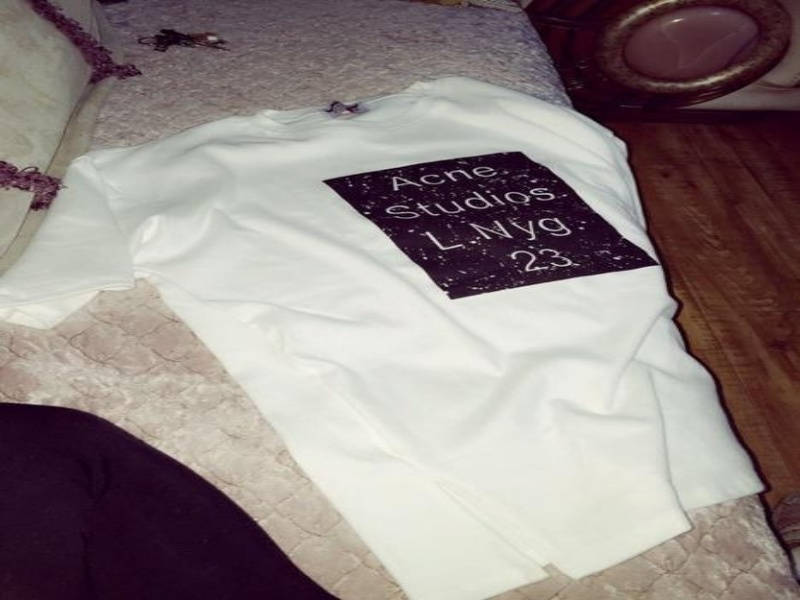long_sleeved_shirt: (3, 75, 766, 599)
